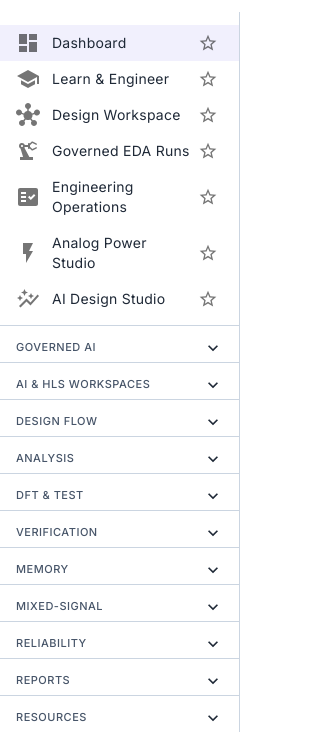
Test: SideNav navigation controls › expands a collapsed group from its header
(page scrolled)
Click the button with aria-label "Expand DFT & Test section". click: (50, 495)
box: [16,486,223,506]
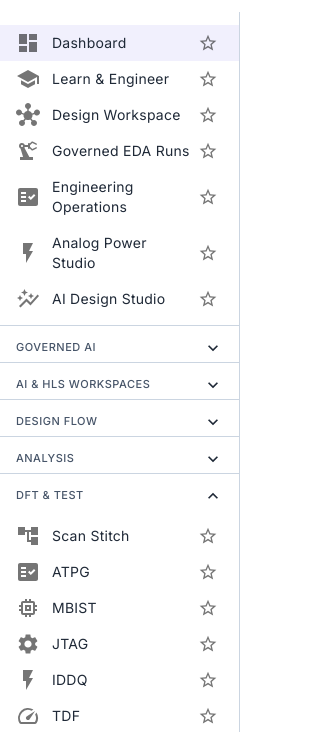
Result: the link "ATPG" is shown at [16,560,90,584]
Click the button with aria-label "Collapse DFT & Test section". click: (50, 495)
box: [16,486,223,506]
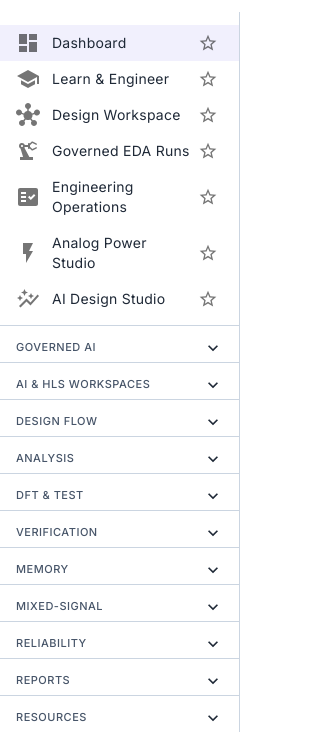
Result: the link "ATPG" is gone
